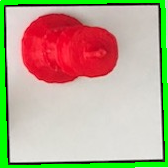Red King: (12, 13, 123, 93)
